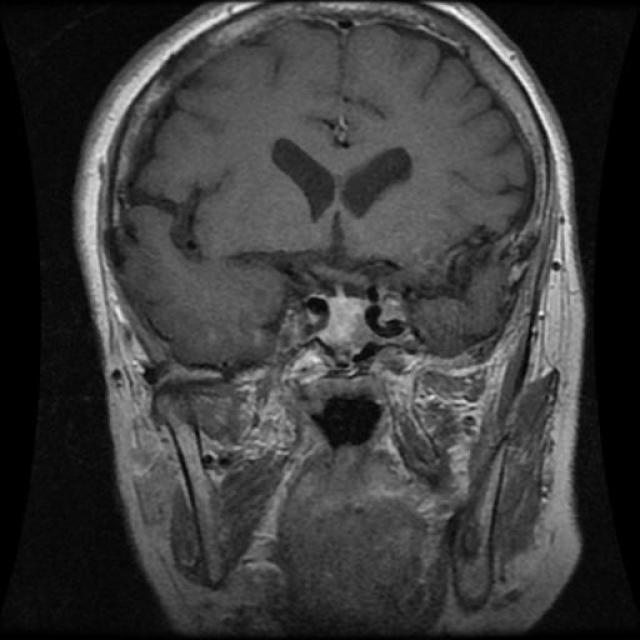pituitary: (284, 285, 382, 390)
